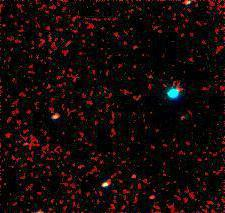star: (135, 178, 165, 208)
